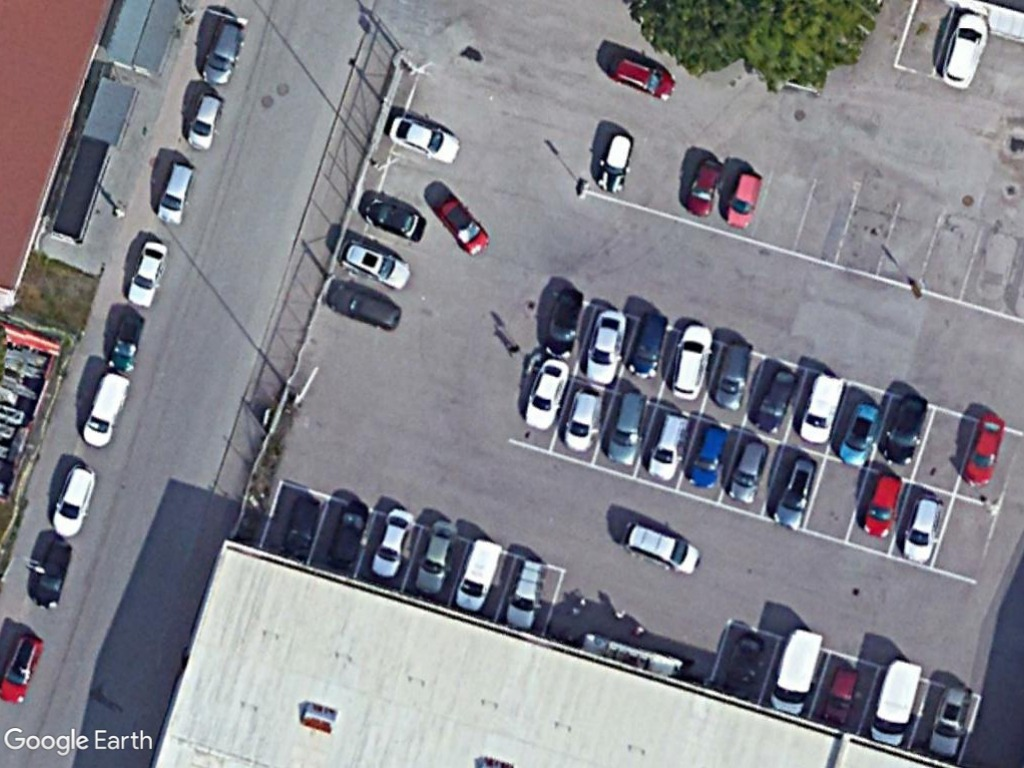car: (617, 518, 702, 580), (323, 274, 407, 336), (338, 237, 416, 294), (876, 392, 933, 467), (667, 321, 718, 402), (580, 307, 632, 386), (771, 452, 821, 534), (960, 412, 1011, 490), (925, 684, 975, 762), (49, 463, 99, 540), (540, 287, 591, 362), (411, 520, 459, 599), (369, 506, 418, 583), (388, 115, 464, 164), (941, 15, 991, 89), (749, 364, 801, 435), (607, 51, 679, 101), (523, 358, 571, 433), (434, 196, 493, 257), (501, 557, 548, 633), (324, 498, 375, 568), (723, 434, 773, 505), (647, 409, 694, 484), (899, 492, 947, 565), (0, 632, 48, 703), (606, 388, 650, 465), (124, 237, 171, 309), (624, 311, 671, 383), (687, 419, 735, 489), (360, 196, 432, 242), (835, 399, 883, 467), (201, 16, 246, 88), (31, 539, 75, 612), (155, 155, 197, 230), (860, 471, 906, 539), (564, 381, 607, 453), (711, 337, 752, 412), (681, 155, 728, 217), (594, 129, 638, 195), (721, 169, 766, 233), (185, 86, 225, 152)
van: (769, 626, 826, 716), (868, 656, 924, 746), (79, 367, 133, 450), (450, 535, 505, 613), (794, 369, 848, 445)
